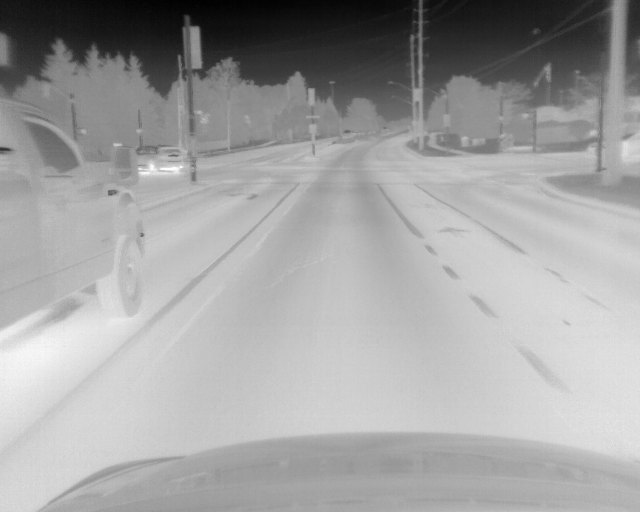car: (1, 98, 143, 338), (135, 143, 189, 175), (621, 130, 640, 167)
